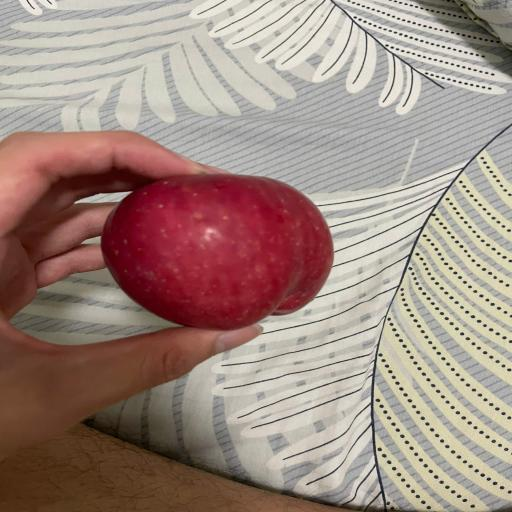apple: (101, 174, 333, 330)
